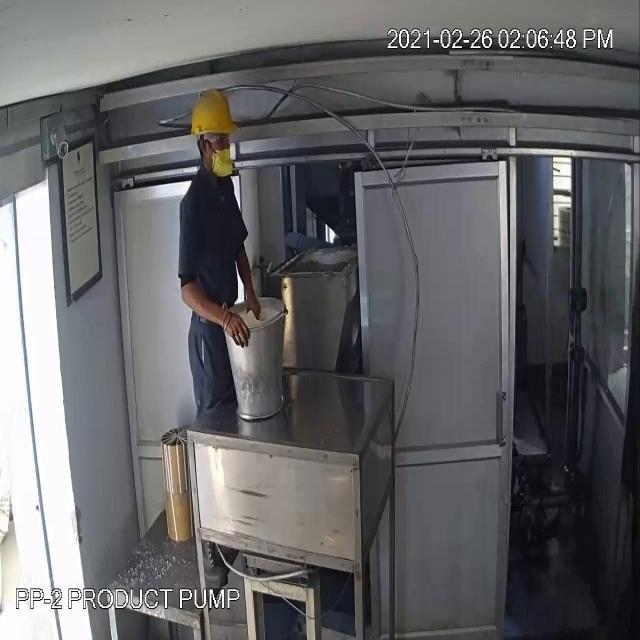helmet: (184, 78, 240, 146)
